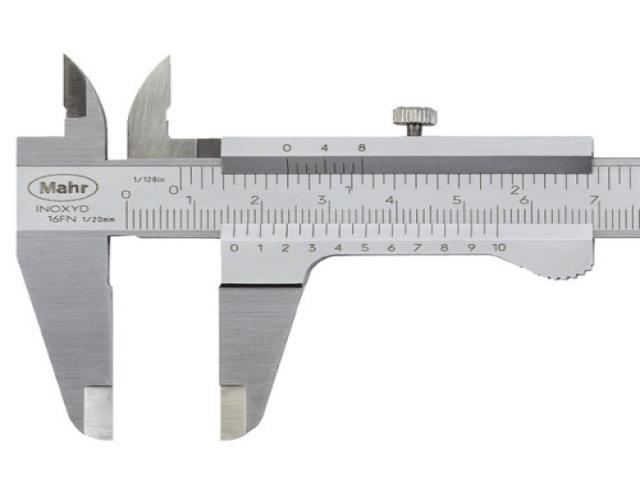Calipers: (16, 57, 640, 440)
